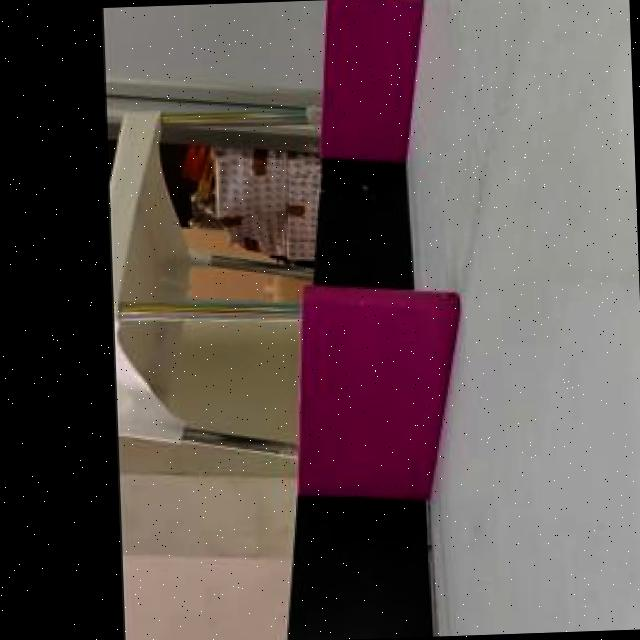xparking: (300, 288, 456, 478), (328, 0, 423, 153)
